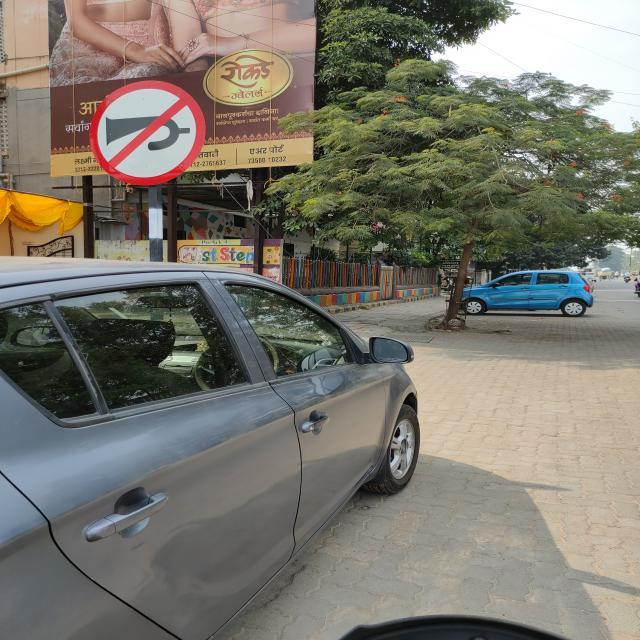horn prohibited: (85, 74, 211, 190)
